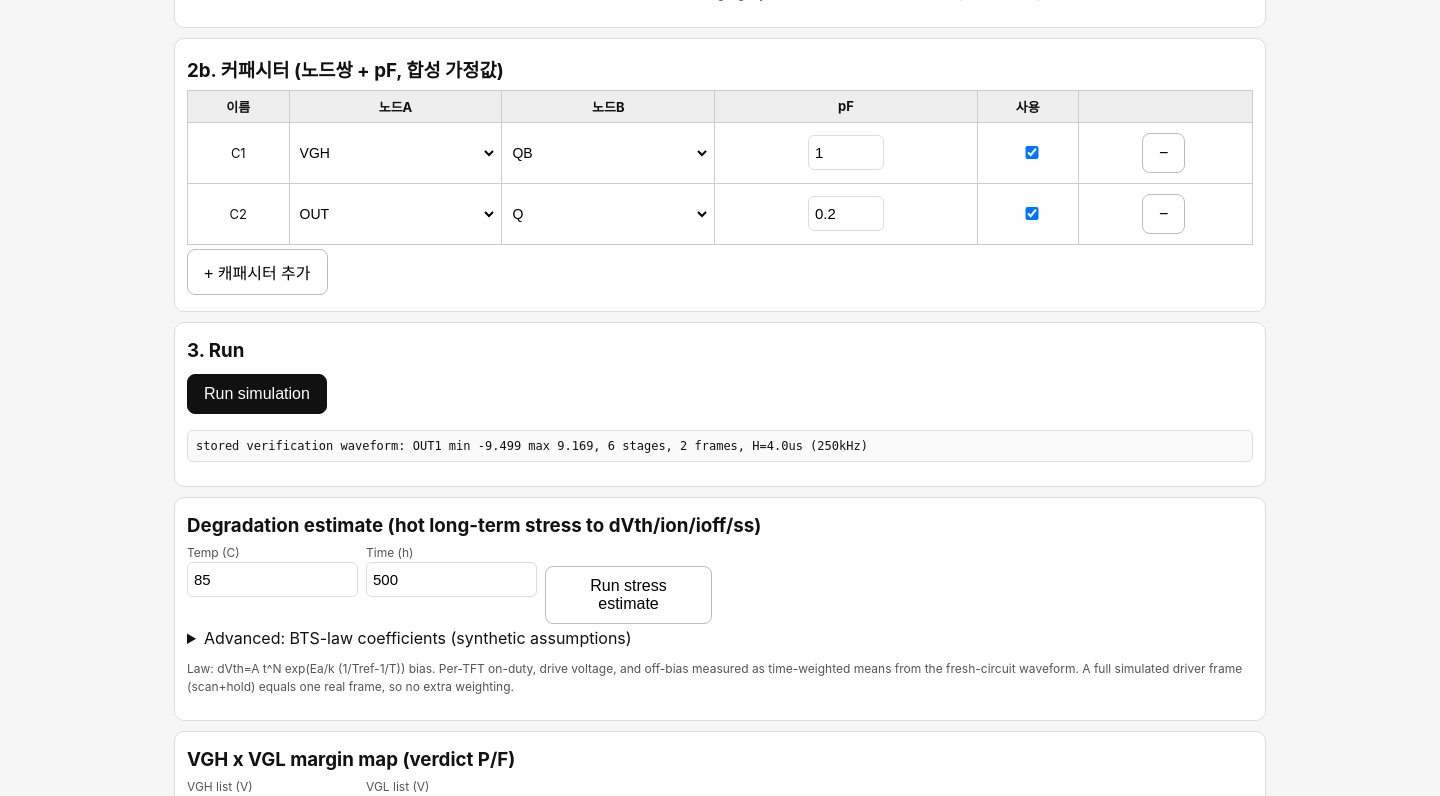
Test: lab page › failed backends fall back to the demo series
(page scrolled)
Click the button "Run simulation": click(257, 394) 187,374 -> 327,414
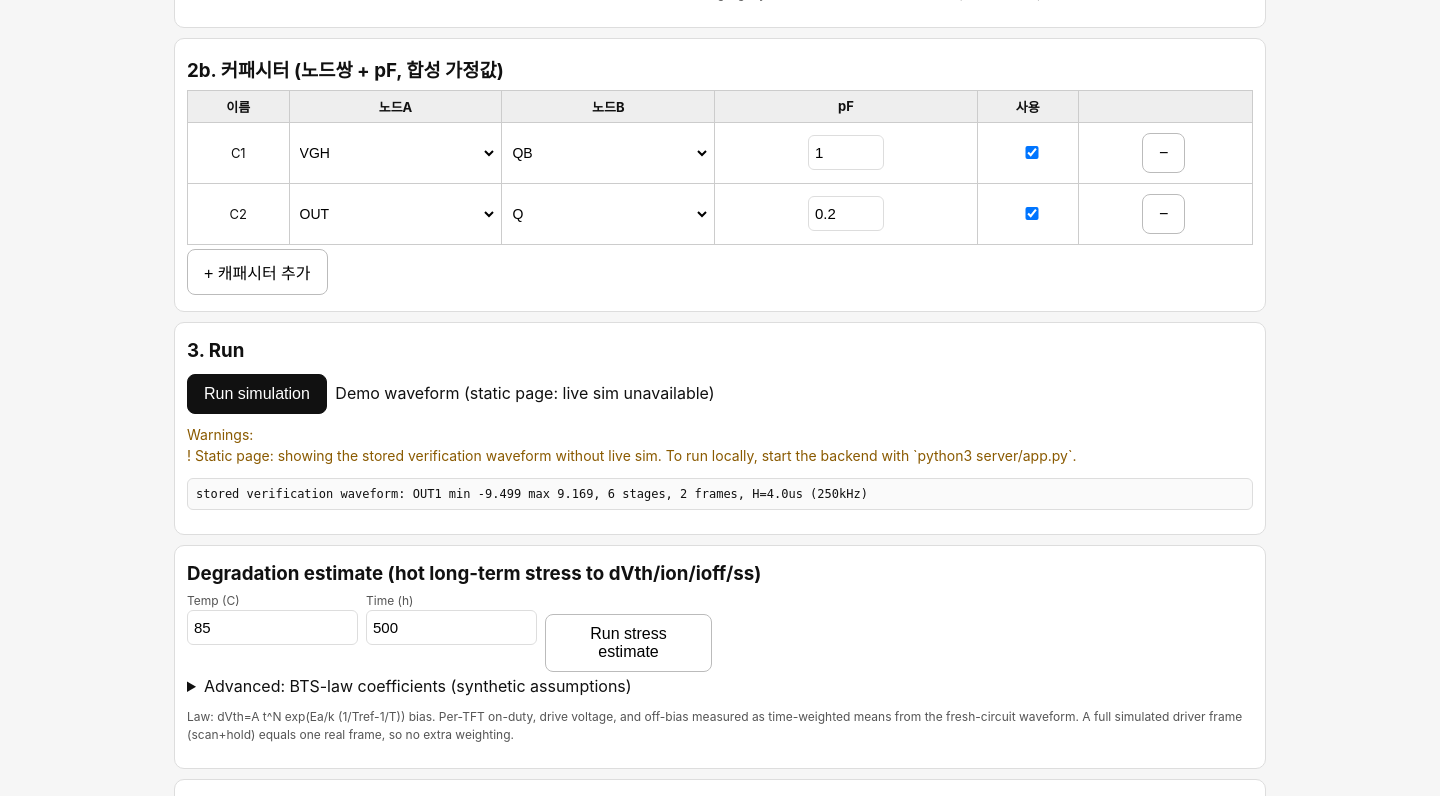
Expected: the text with id "summary" shows "stored verification waveform", 196,486 -> 868,500
Now the text with id "status" shows "Demo waveform", box 335,382 -> 714,402
